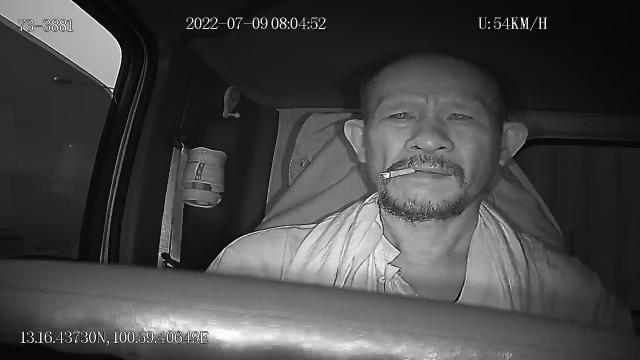SafeDriving: (439, 100, 479, 129), (382, 102, 422, 128)
Smoking: (378, 167, 416, 179)
